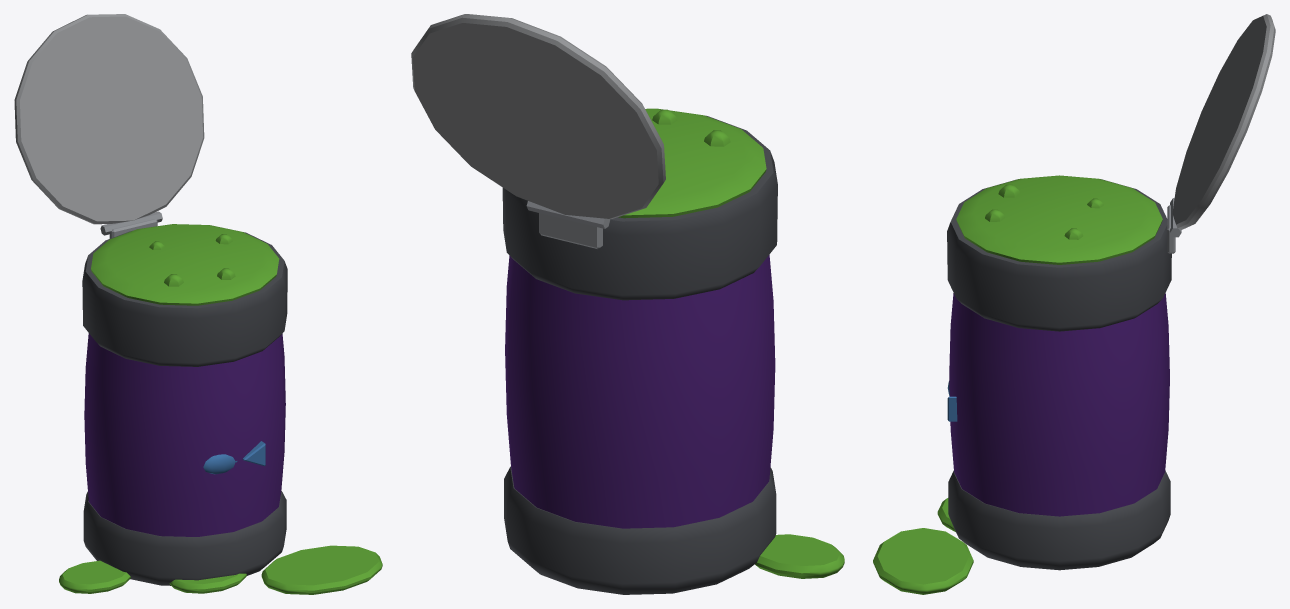
File: gen_toxic_can_vertex.mobile-low.glb
The picture shows the model from 3 angles, left to right: view 1: azimuth 30°, elevation 25°; view 2: azimuth 150°, elevation 25°; view 3: azimuth 270°, elevation 25°; orthographic projection. The views are drawn at different scales.
Visible parts, largest first — view 1: gen_toxic_can_vertex; view 2: gen_toxic_can_vertex; view 3: gen_toxic_can_vertex.
Part boxes in pixels (<box>): gen_toxic_can_vertex: <box>14,14,382,594</box>; gen_toxic_can_vertex: <box>411,14,844,594</box>; gen_toxic_can_vertex: <box>873,14,1275,594</box>.
Size of the model in its own units: 0.4658 by 0.7719 by 0.5615.
